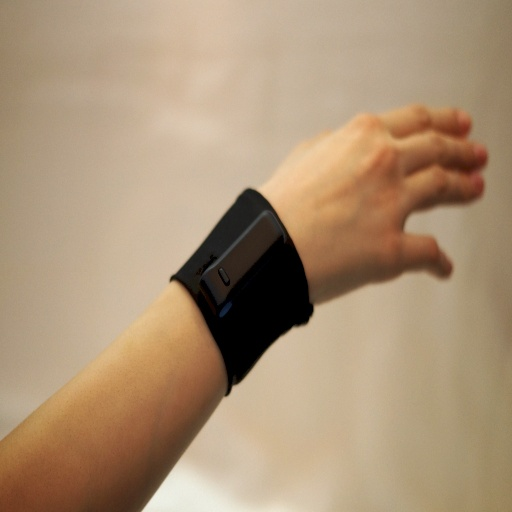hand: (277, 111, 494, 322)
